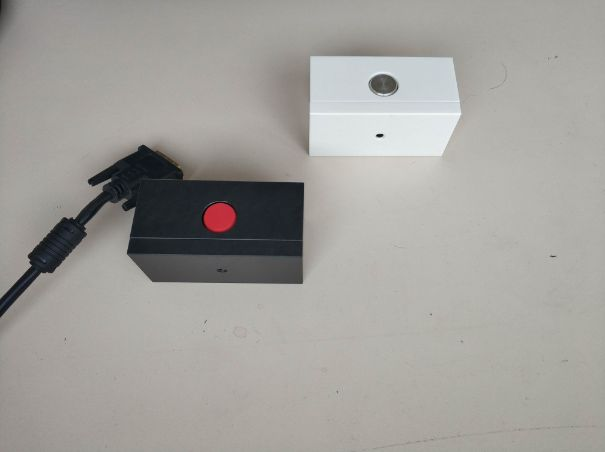black+black+red: (128, 176, 308, 288)
white+white+silver: (304, 50, 465, 160)
